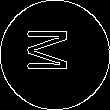M_E: (30, 32, 80, 78)
